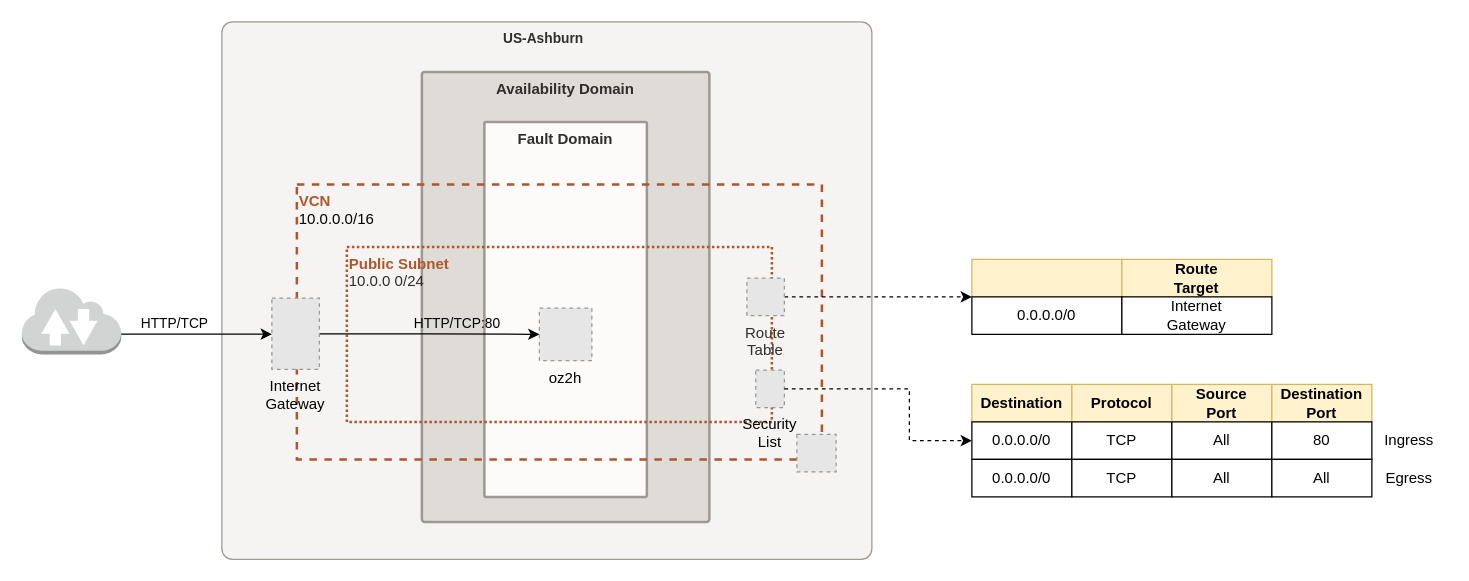
The diagram is 1469 pixels wide and 581 high, and some of its shapes have lost their labels. Grey dashed boxes stand in for pictures. The shapes that lost their labels are listed below. From the top down, each one's centre as x and y in pixels, then its label:
(x=1046, y=277): Destination CIDR
(x=71, y=320): Internet
